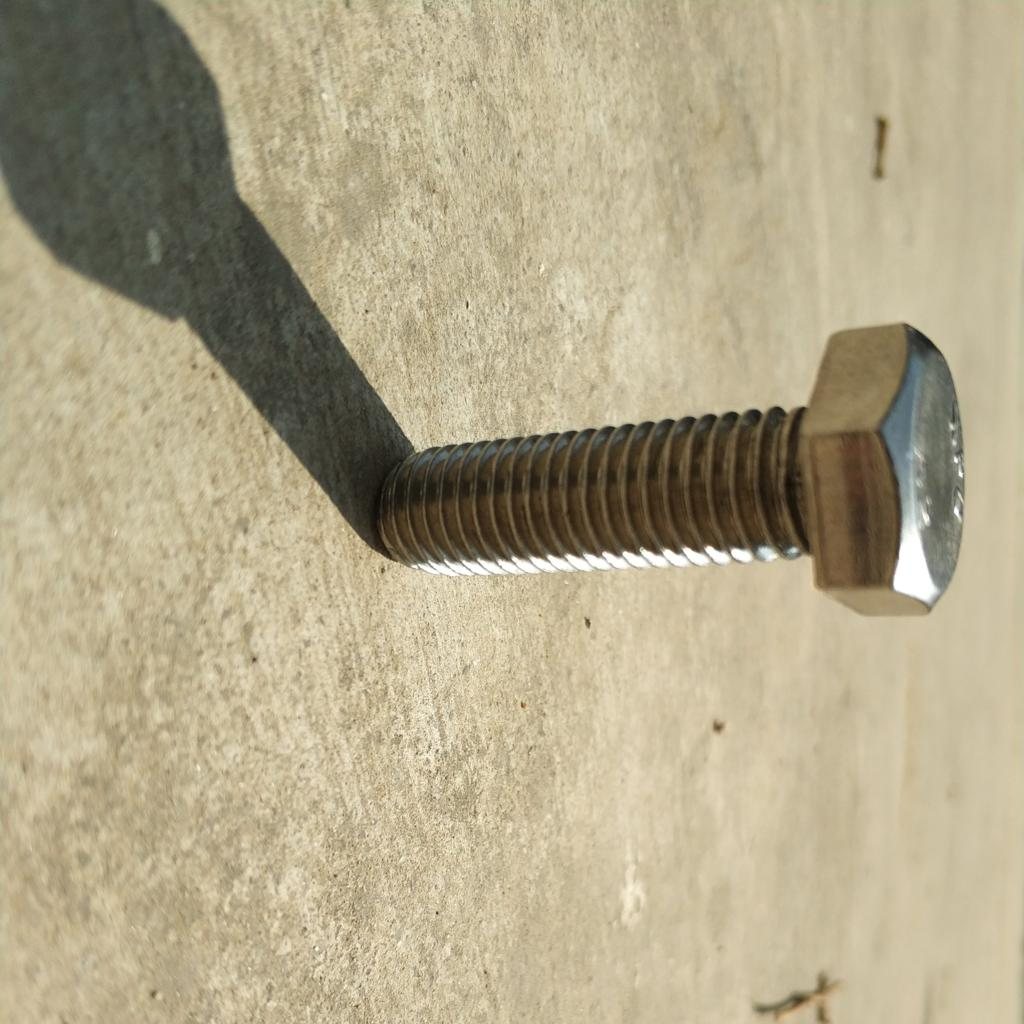screwtype2silver: (368, 316, 976, 637)
